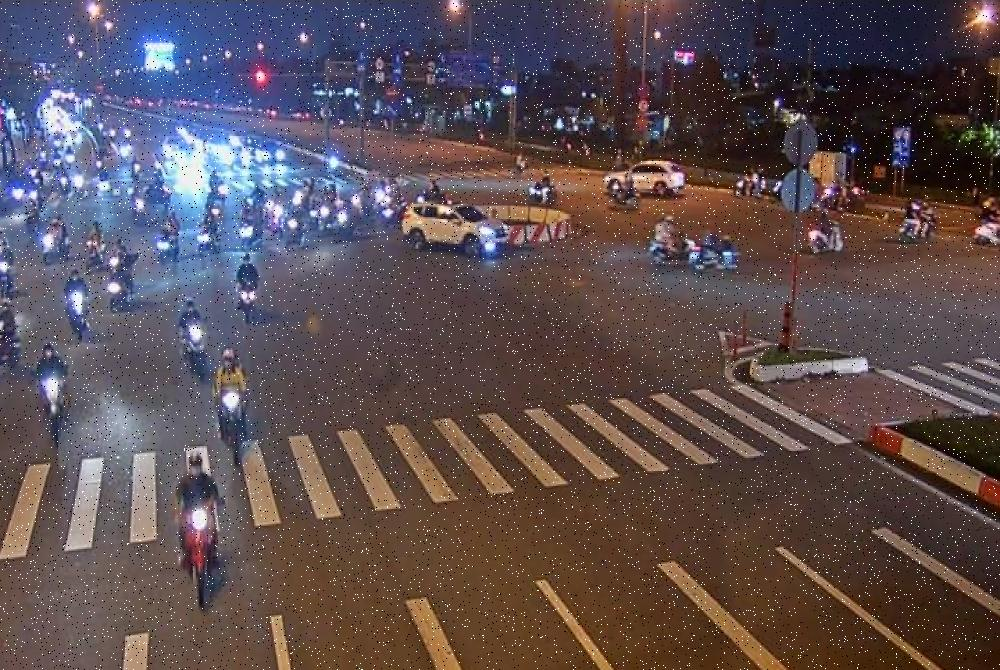car: (400, 198, 513, 262), (605, 156, 685, 198)
motorbike: (174, 495, 224, 618)
